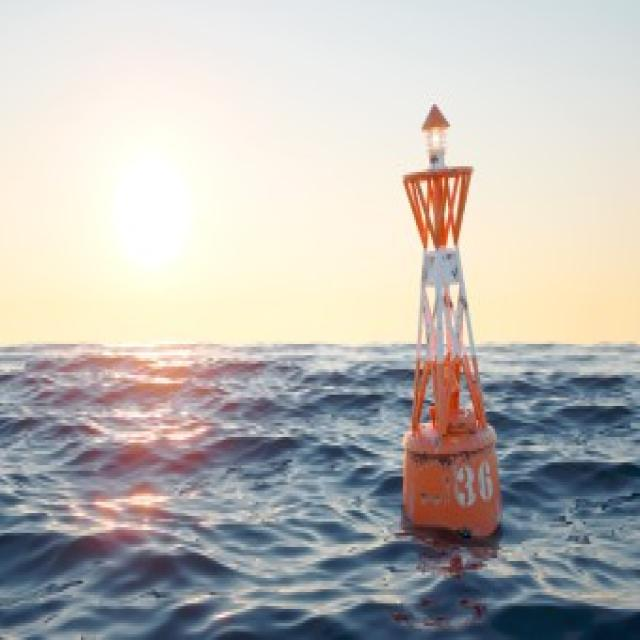buoy: (382, 64, 521, 562)
